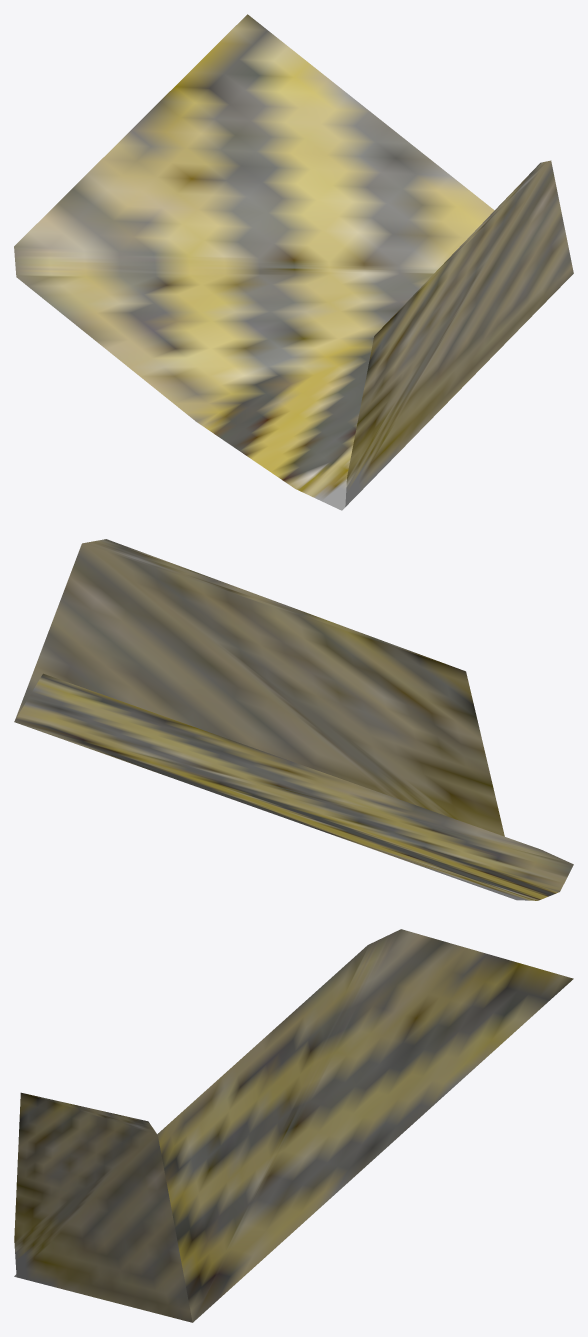
Rendered from entity-v-guard-left.glb.
3 renders of one model, top to bottom at view 1: azimuth 30°, elevation 25°; view 2: azimuth 150°, elevation 25°; view 3: azimuth 270°, elevation 25°, orthographic. The views are drawn at different scales.
Visible parts, largest first — view 1: geometry_0; view 2: geometry_0; view 3: geometry_0.
Part boxes in pixels (x1=…): geometry_0: x1=14, y1=14, x2=573, y2=510; geometry_0: x1=14, y1=539, x2=573, y2=900; geometry_0: x1=14, y1=929, x2=573, y2=1322.
Bounding box in the file's own units: 1.14 × 0.6707 × 0.903.
